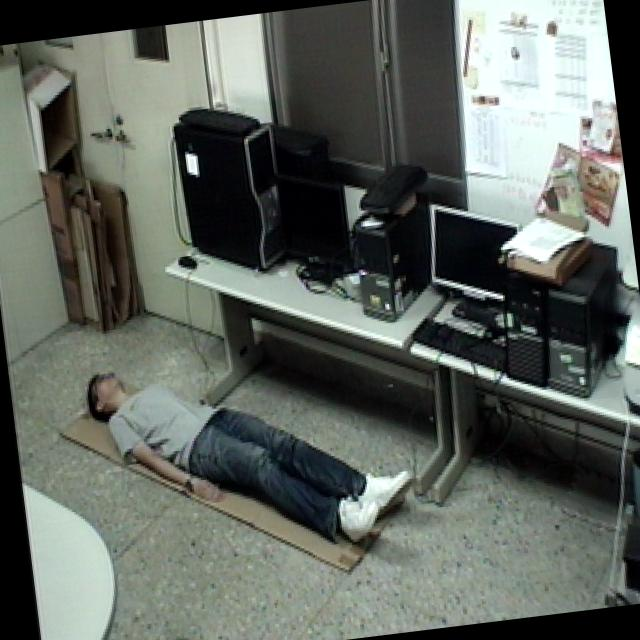lie: (68, 326, 434, 580)
